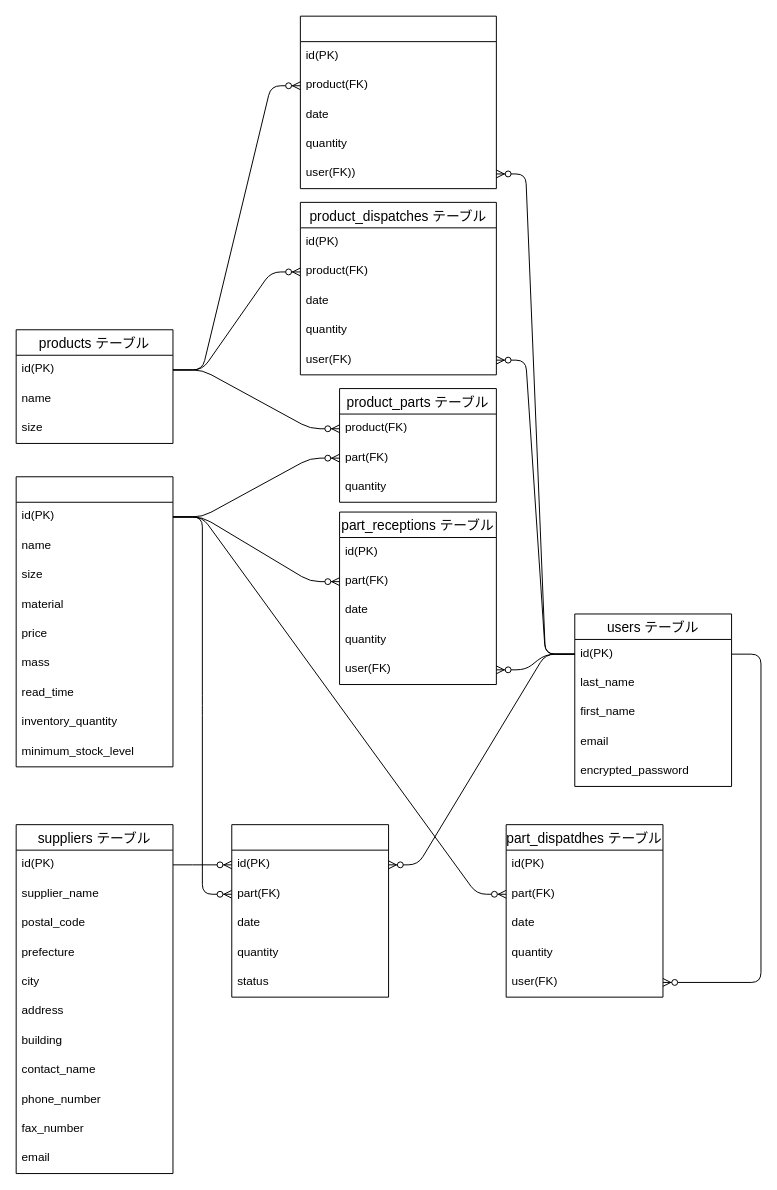
Some shapes in this 777 by 1190 pixel diagram are drawn without their labels. Here are the shapes that lost their labels. From the top down, the box of each, then its label:
(299, 15, 496, 189): product_assemblys テーブル
(15, 476, 173, 767): parts テーブル
(231, 824, 389, 997): part_orders テーブル
